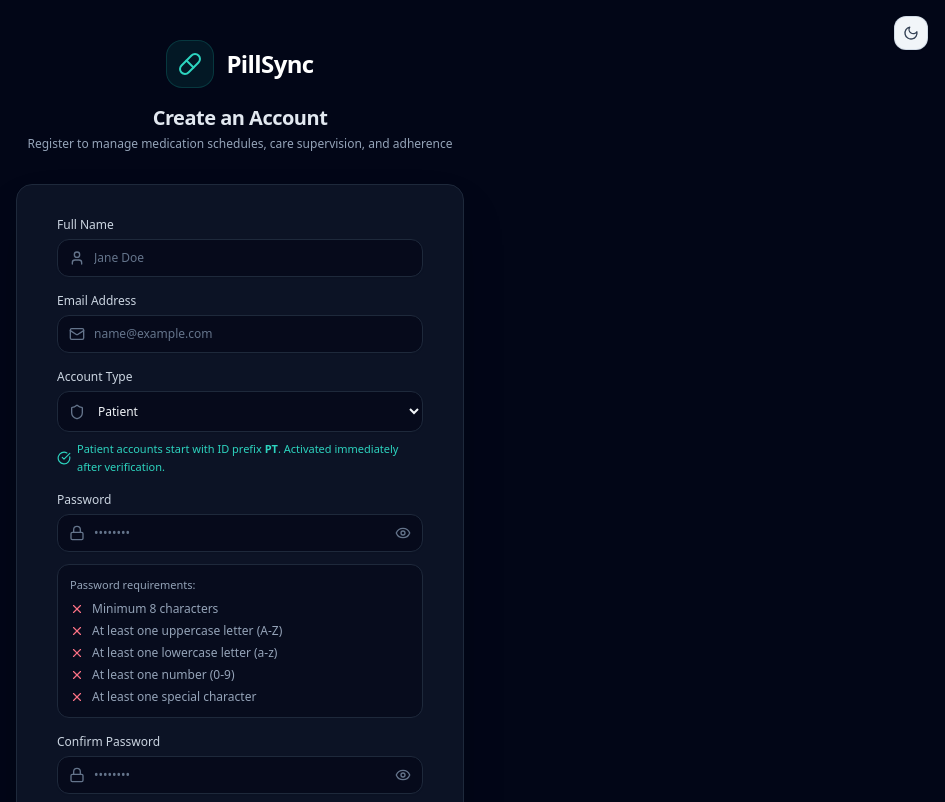
Scenario: Register Component - Dynamic Role Selection & Single-Admin Rule › displays Admin option in dropdown when adminRegistrationAvailable is true
Select Admin option and check helper text
Select "Admin" in the dropdown labelled "Account Type" at (240, 412), box [57,391,423,432]
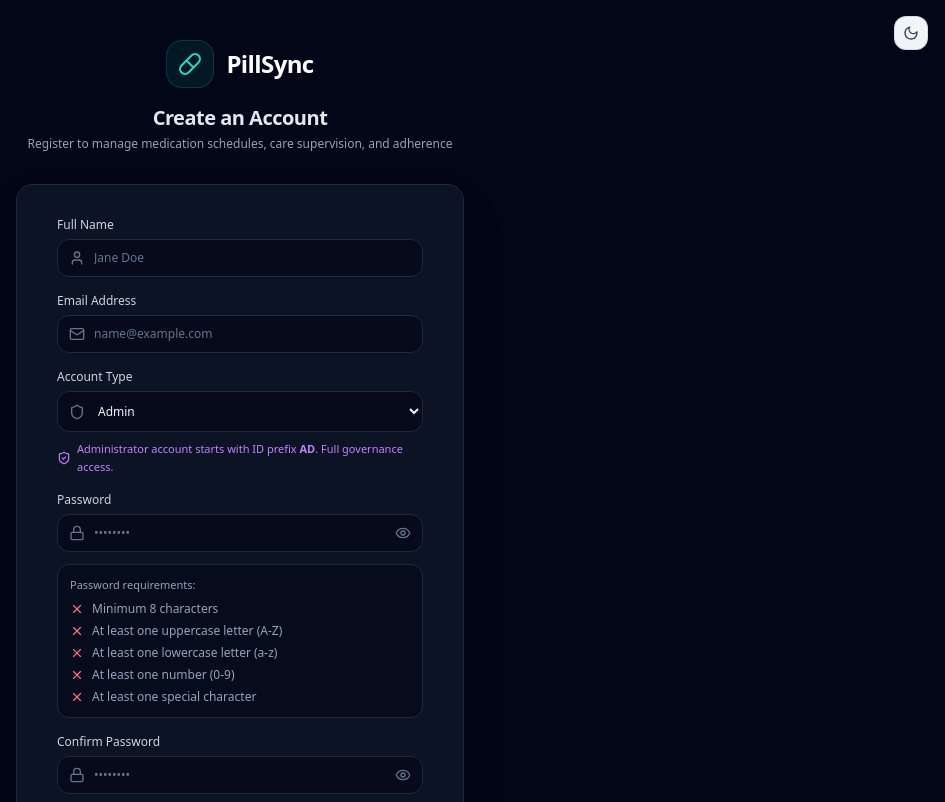
Now the text "Administrator account starts with ID prefix" is shown, box [77,441,300,456]
